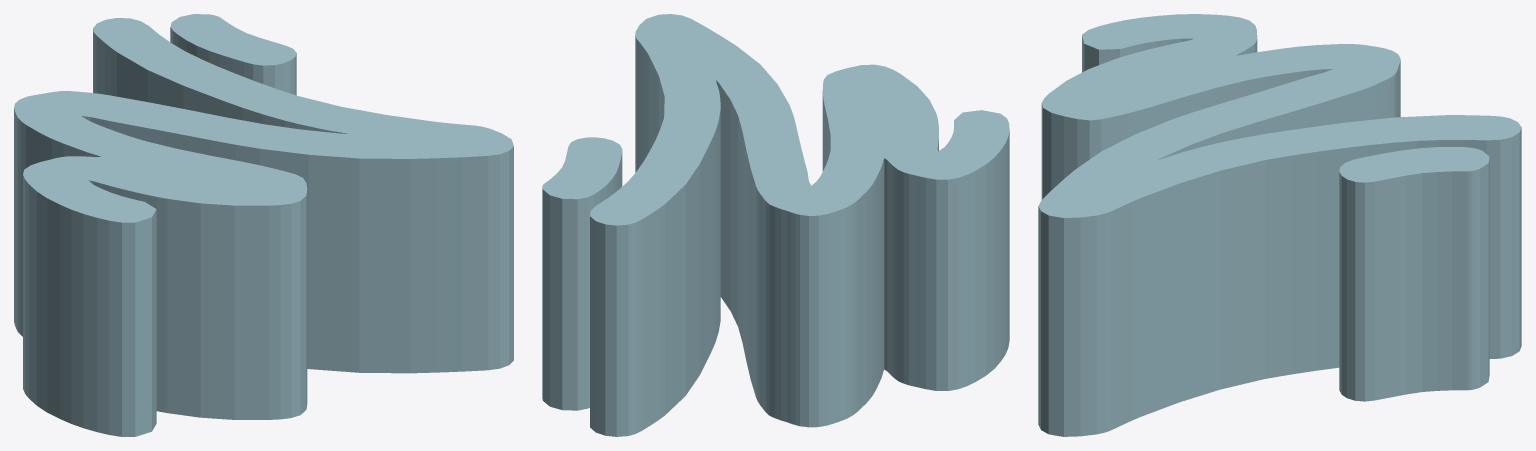
The model's file is Glorious Uusam-Kup.glb.
3 views of the same model, side by side, from view 1: azimuth 30°, elevation 25°; view 2: azimuth 150°, elevation 25°; view 3: azimuth 270°, elevation 25° (orthographic). The views are drawn at different scales.
Visible parts, largest first — view 1: Mesh_Mesh_head_geo.001_lambert2SG.001; view 2: Mesh_Mesh_head_geo.001_lambert2SG.001; view 3: Mesh_Mesh_head_geo.001_lambert2SG.001.
Part boxes in pixels (x1,y1,x2,y2): Mesh_Mesh_head_geo.001_lambert2SG.001: (14, 14, 513, 436); Mesh_Mesh_head_geo.001_lambert2SG.001: (542, 14, 1009, 436); Mesh_Mesh_head_geo.001_lambert2SG.001: (1038, 14, 1521, 436).
Size of the model in its own units: 0.02 by 0.01 by 0.02.
